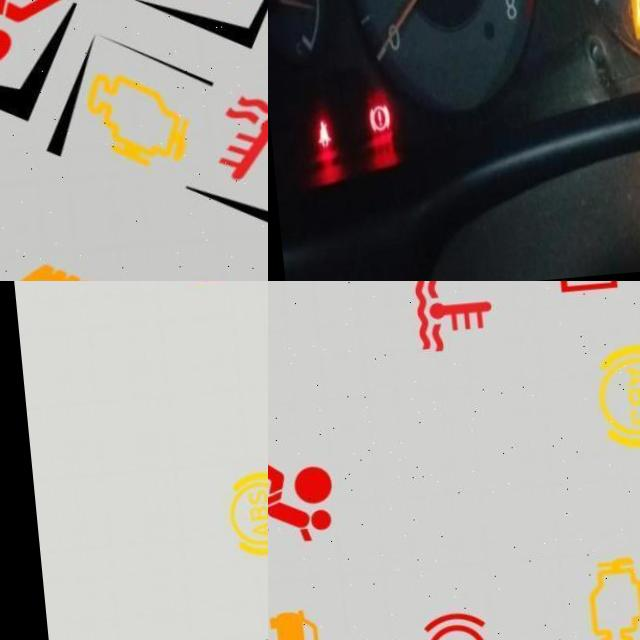Seat Belt: (306, 121, 322, 150)
